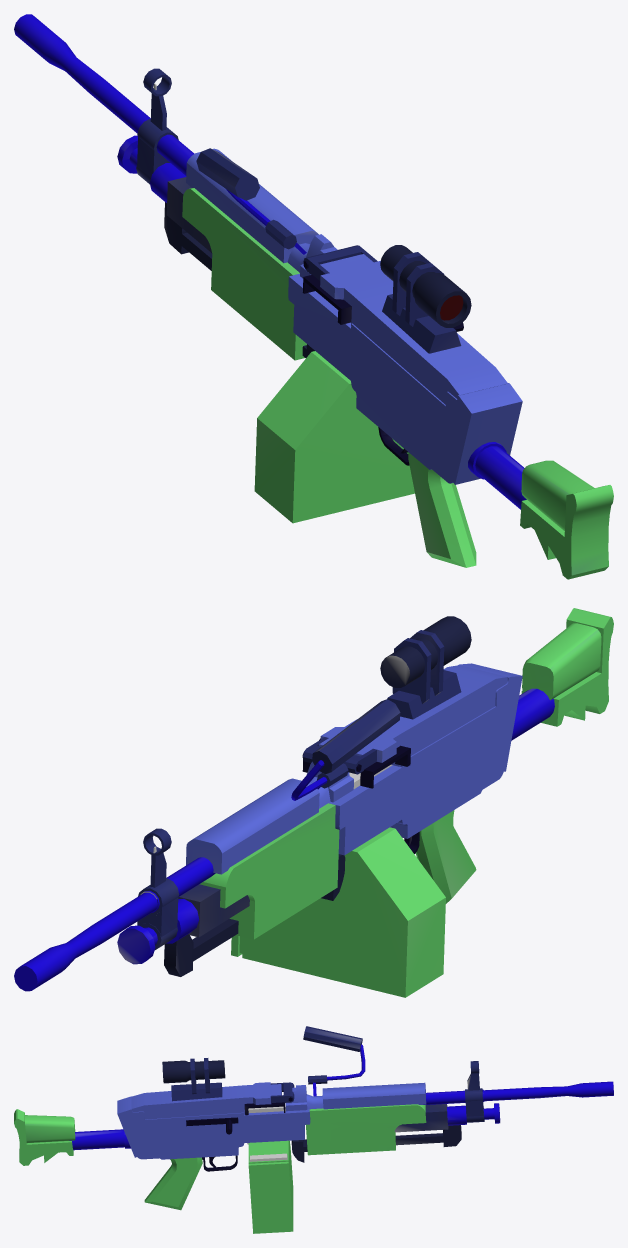
3 renders of one model, top to bottom at view 1: azimuth 30°, elevation 25°; view 2: azimuth 150°, elevation 25°; view 3: azimuth 270°, elevation 25°, orthographic. The views are drawn at different scales.
Parts seen in each view (by area): view 1: mg250; view 2: mg250; view 3: mg250.
Boxes of the visible parts, bbox=[...] form: mg250: bbox=[14, 14, 613, 579]; mg250: bbox=[14, 608, 613, 997]; mg250: bbox=[14, 1026, 613, 1233].
Size of the model in its own units: 0.2062 by 0.3377 by 1.12.
